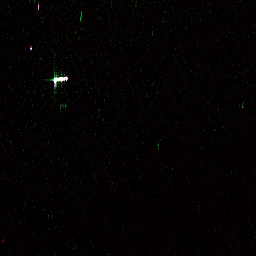ship: (52, 75, 69, 83)
